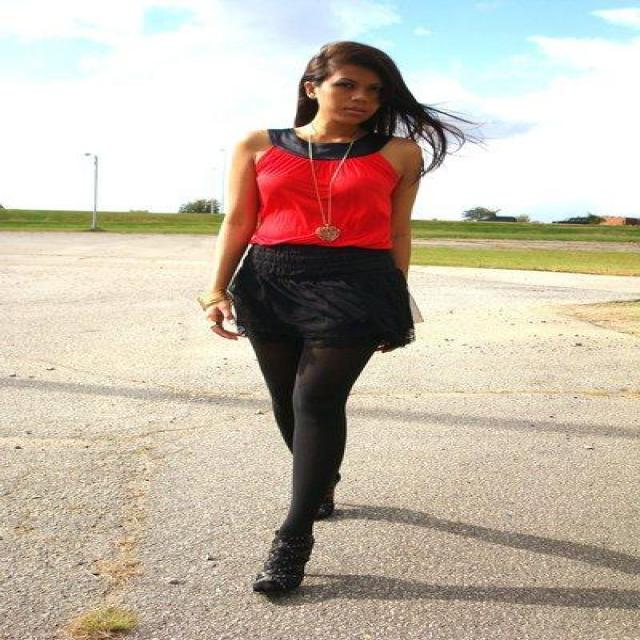shirt: (230, 148, 420, 268)
shoe: (253, 546, 312, 601)
skirt: (228, 242, 414, 352)
